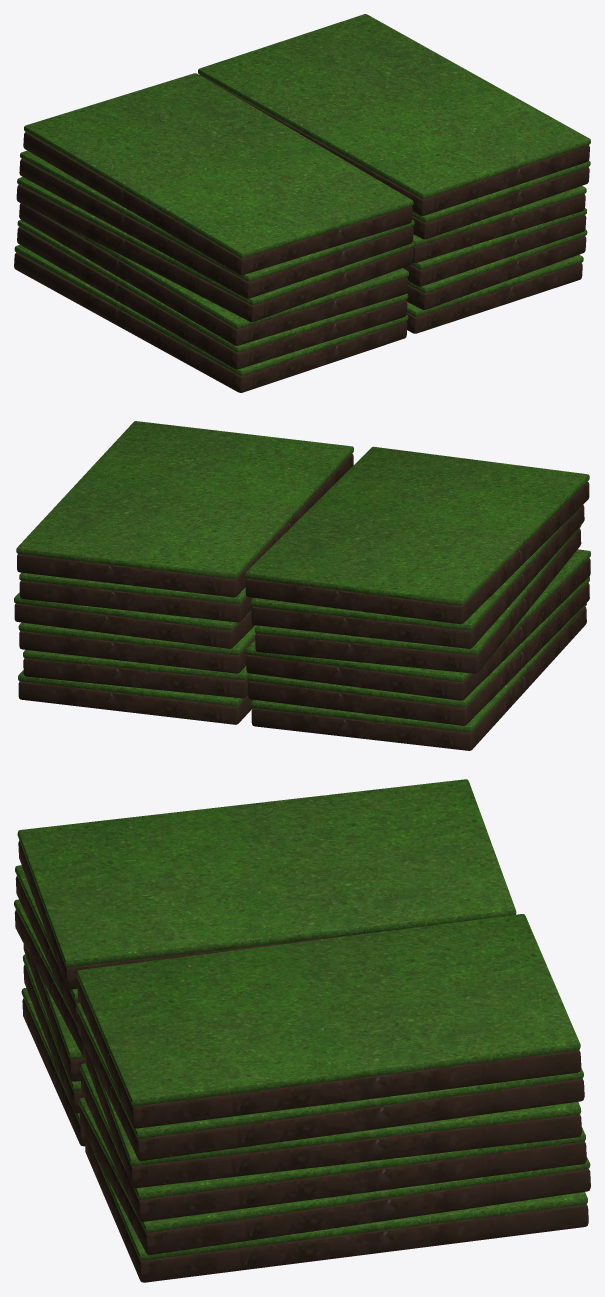
File: PAV-PAI-001_anim.glb
3 renders of one model, top to bottom at view 1: azimuth 30°, elevation 25°; view 2: azimuth 150°, elevation 25°; view 3: azimuth 270°, elevation 25°, orthographic. The views are drawn at different scales.
Visible parts, largest first — view 1: PAV-PAI-001_anim0; view 2: PAV-PAI-001_anim0; view 3: PAV-PAI-001_anim0.
Part boxes in pixels (bbox=[...]): PAV-PAI-001_anim0: bbox=[14, 14, 590, 392]; PAV-PAI-001_anim0: bbox=[14, 421, 590, 750]; PAV-PAI-001_anim0: bbox=[14, 779, 590, 1282].
Size of the model in its own units: 0.9373 by 0.3363 by 0.7812.
Materials: 2 (2 with a texture image).
